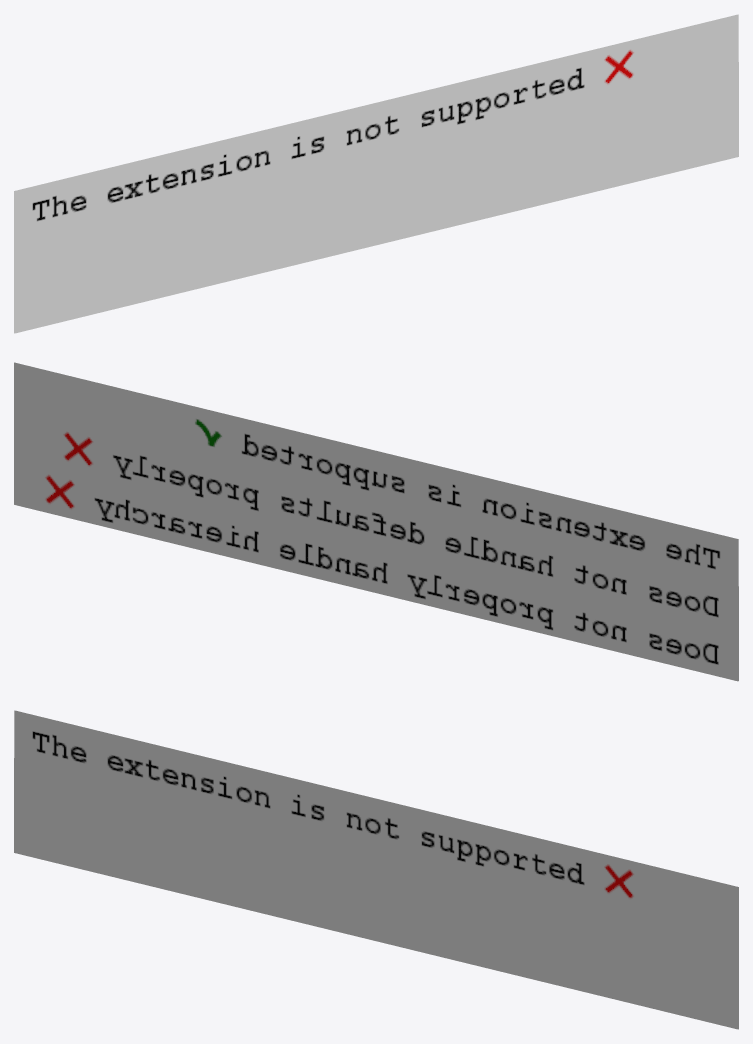
File: NodeVisibilityTest.glb
3 renders of one model, top to bottom at view 1: azimuth 30°, elevation 25°; view 2: azimuth 150°, elevation 25°; view 3: azimuth 330°, elevation 25°, orthographic.
Visible parts, largest first — view 1: visible:false (×3), object 1, visible:undefined; view 2: object 1, object 4, visible:true, visible:false; view 3: visible:false (×3), object 1, visible:undefined.
Boxes of the visible parts, box(x1,y1,x2,y2) form: visible:false (×3): box(14, 14, 738, 333); object 1: box(14, 14, 737, 237); visible:undefined: box(14, 62, 738, 285); object 1: box(14, 362, 738, 586); object 4: box(14, 410, 738, 633); visible:true: box(14, 457, 738, 681); visible:false: box(14, 362, 738, 586); visible:false (×3): box(14, 710, 738, 1029); object 1: box(15, 710, 738, 933); visible:undefined: box(14, 758, 738, 981).
Size of the model in its own units: 16 by 3 by 0.02.
8 materials, 8 textured.
